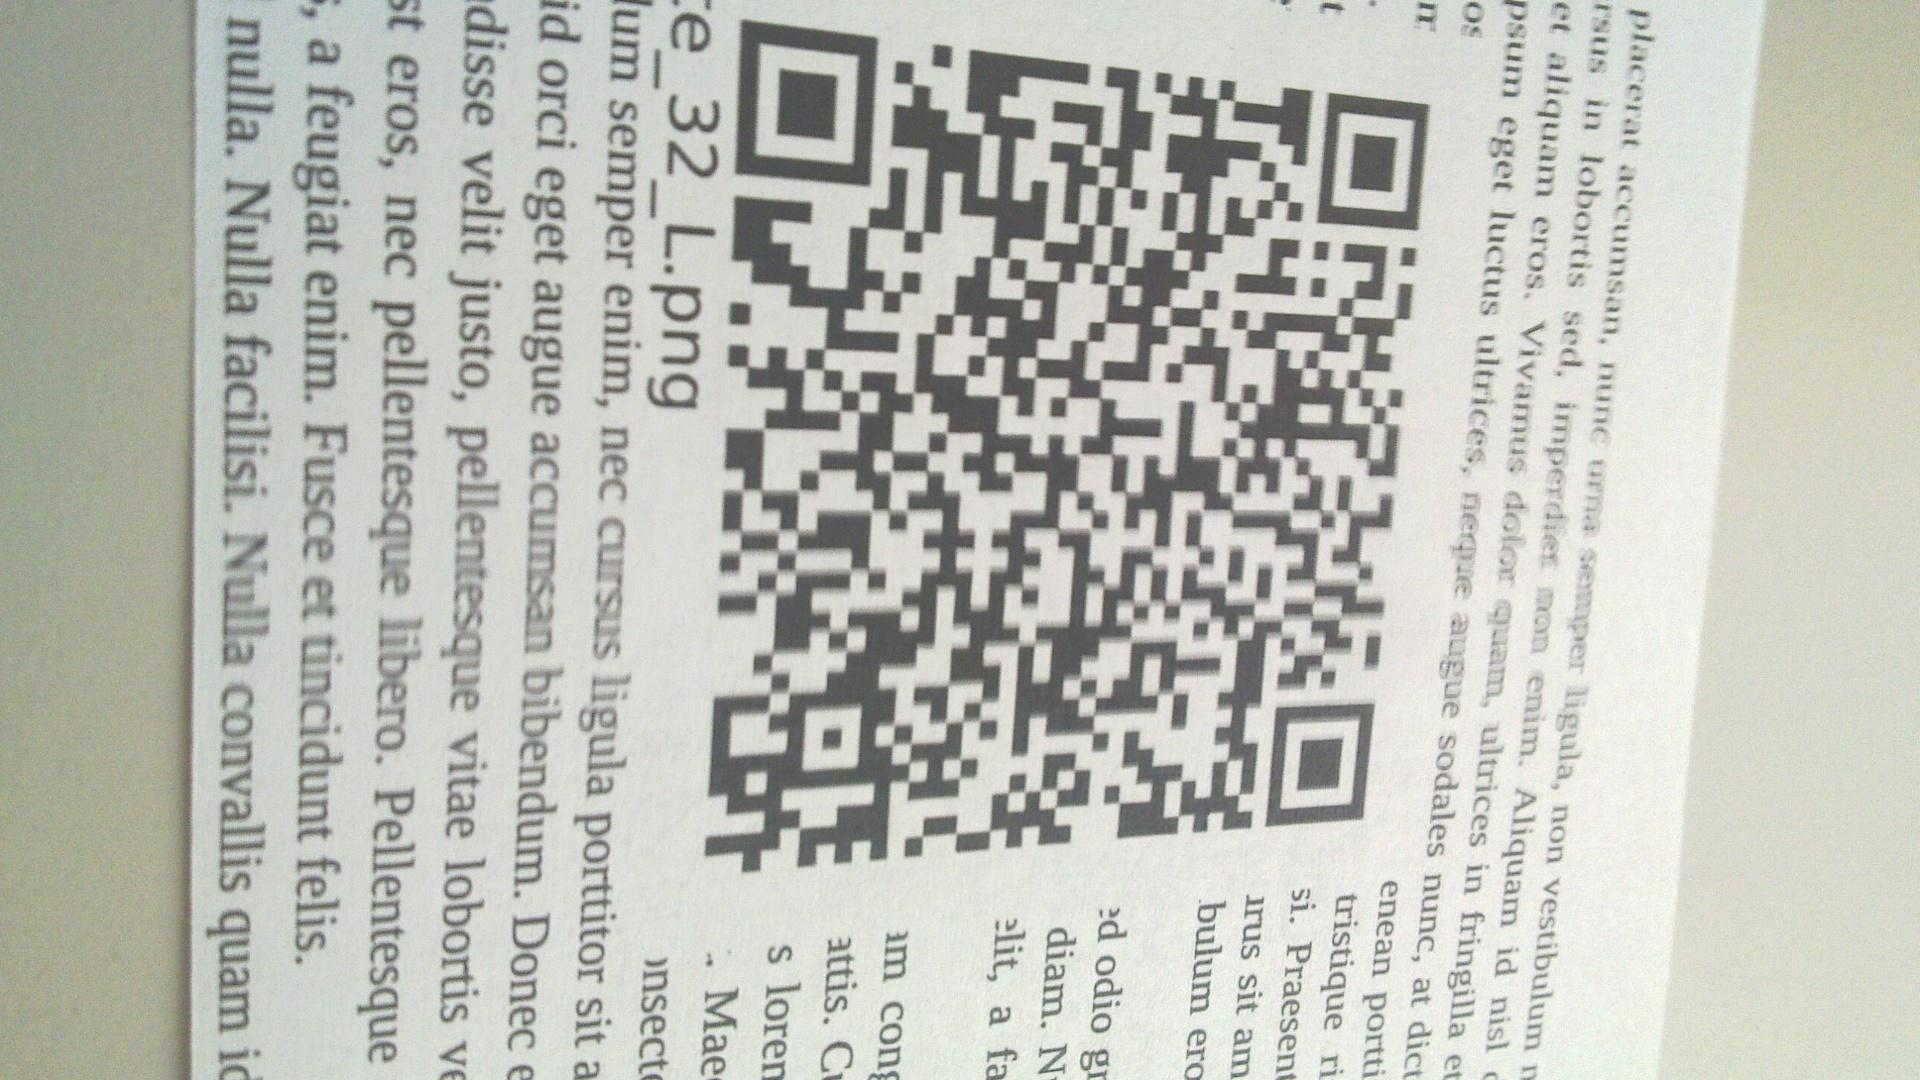Finder pattern: (728, 7, 887, 193), (1321, 84, 1429, 235), (1267, 700, 1375, 825)
